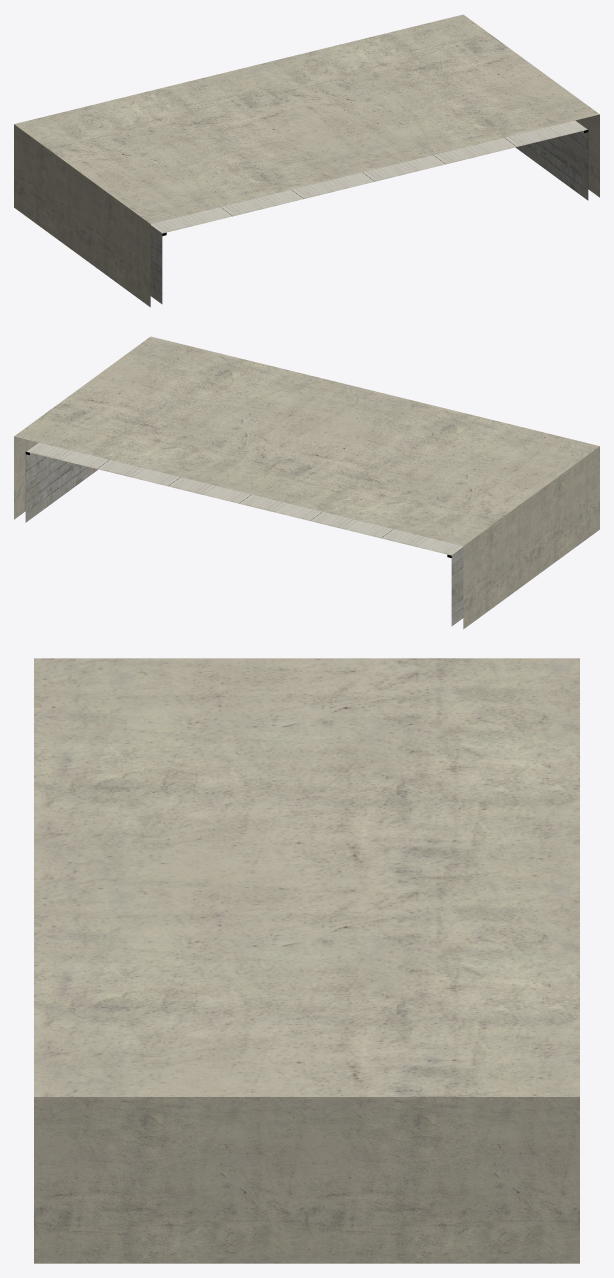
File: GSDTunnel-6L.FBX
3 views of the same model, one above another, from view 1: azimuth 30°, elevation 25°; view 2: azimuth 150°, elevation 25°; view 3: azimuth 270°, elevation 25° (orthographic). The views are drawn at different scales.
Visible parts, largest first — view 1: GSDTunnel-6L; view 2: GSDTunnel-6L; view 3: GSDTunnel-6L.
Boxes of the visible parts, x1=… form: GSDTunnel-6L: x1=14, y1=14, x2=599, y2=307; GSDTunnel-6L: x1=14, y1=336, x2=599, y2=629; GSDTunnel-6L: x1=34, y1=658, x2=579, y2=1263.
Size of the model in its own units: 38 by 6.74 by 20.
